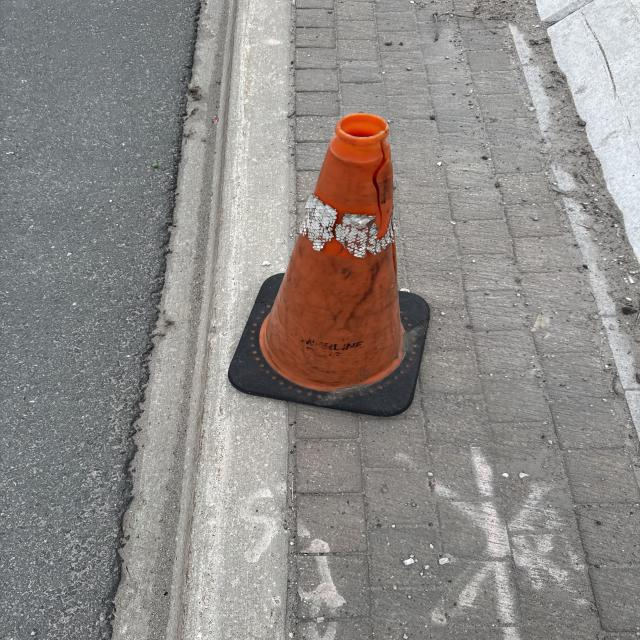Traffic Cone: (230, 114, 431, 418)
